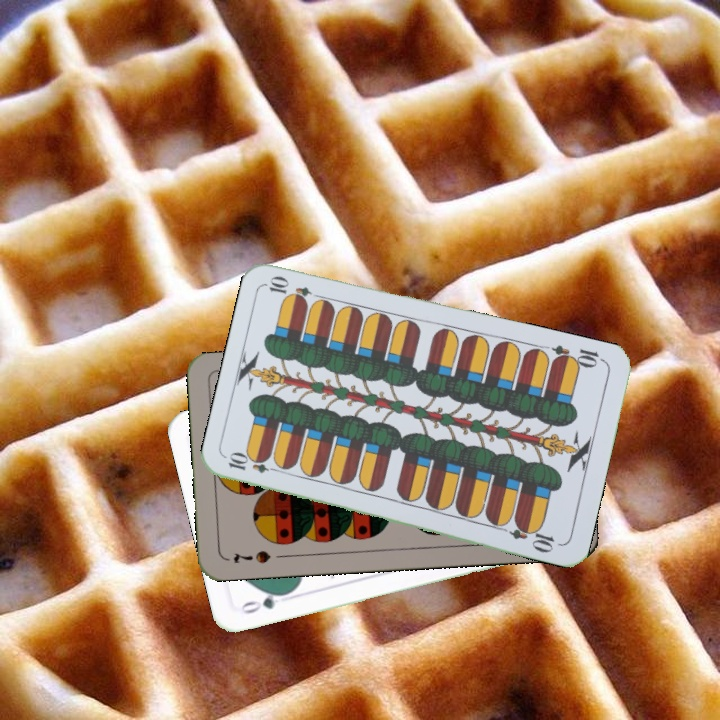E10: (548, 341, 607, 371), (224, 451, 283, 476)
GO: (237, 587, 293, 617)
S7: (229, 546, 273, 566)
